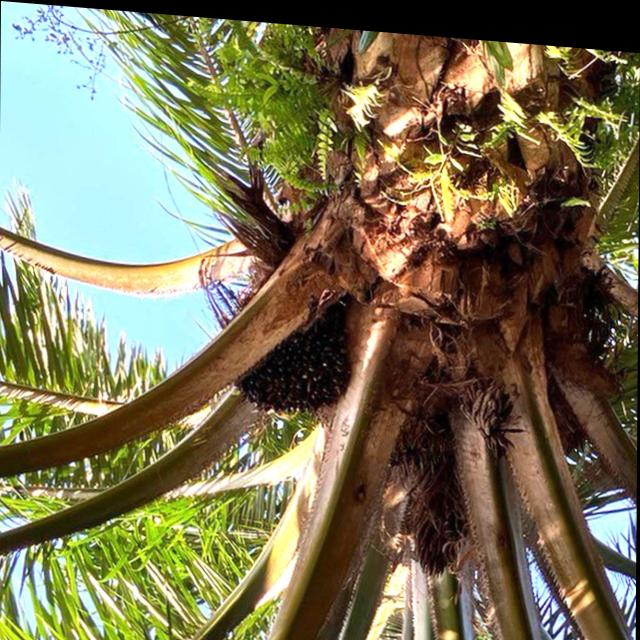almost: (225, 273, 360, 425)
